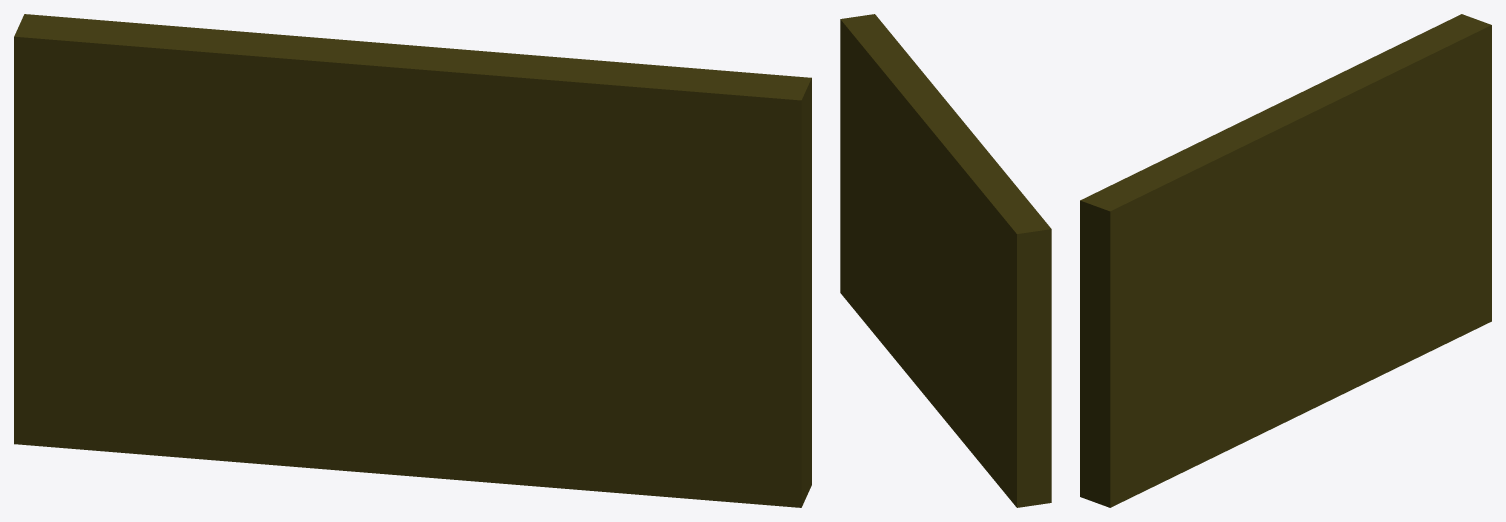
The picture shows the model from 3 angles, left to right: view 1: azimuth 30°, elevation 25°; view 2: azimuth 150°, elevation 25°; view 3: azimuth 270°, elevation 25°; orthographic projection. The views are drawn at different scales.
Parts seen in each view (by area): view 1: 1:1:1; view 2: 1:1:1; view 3: 1:1:1.
Boxes of the visible parts, x1,y1,x2,y2 form: 1:1:1: (14, 14, 811, 507); 1:1:1: (840, 14, 1051, 507); 1:1:1: (1080, 14, 1491, 507).
Bounding box in the file's own units: 370 × 259 × 326.
